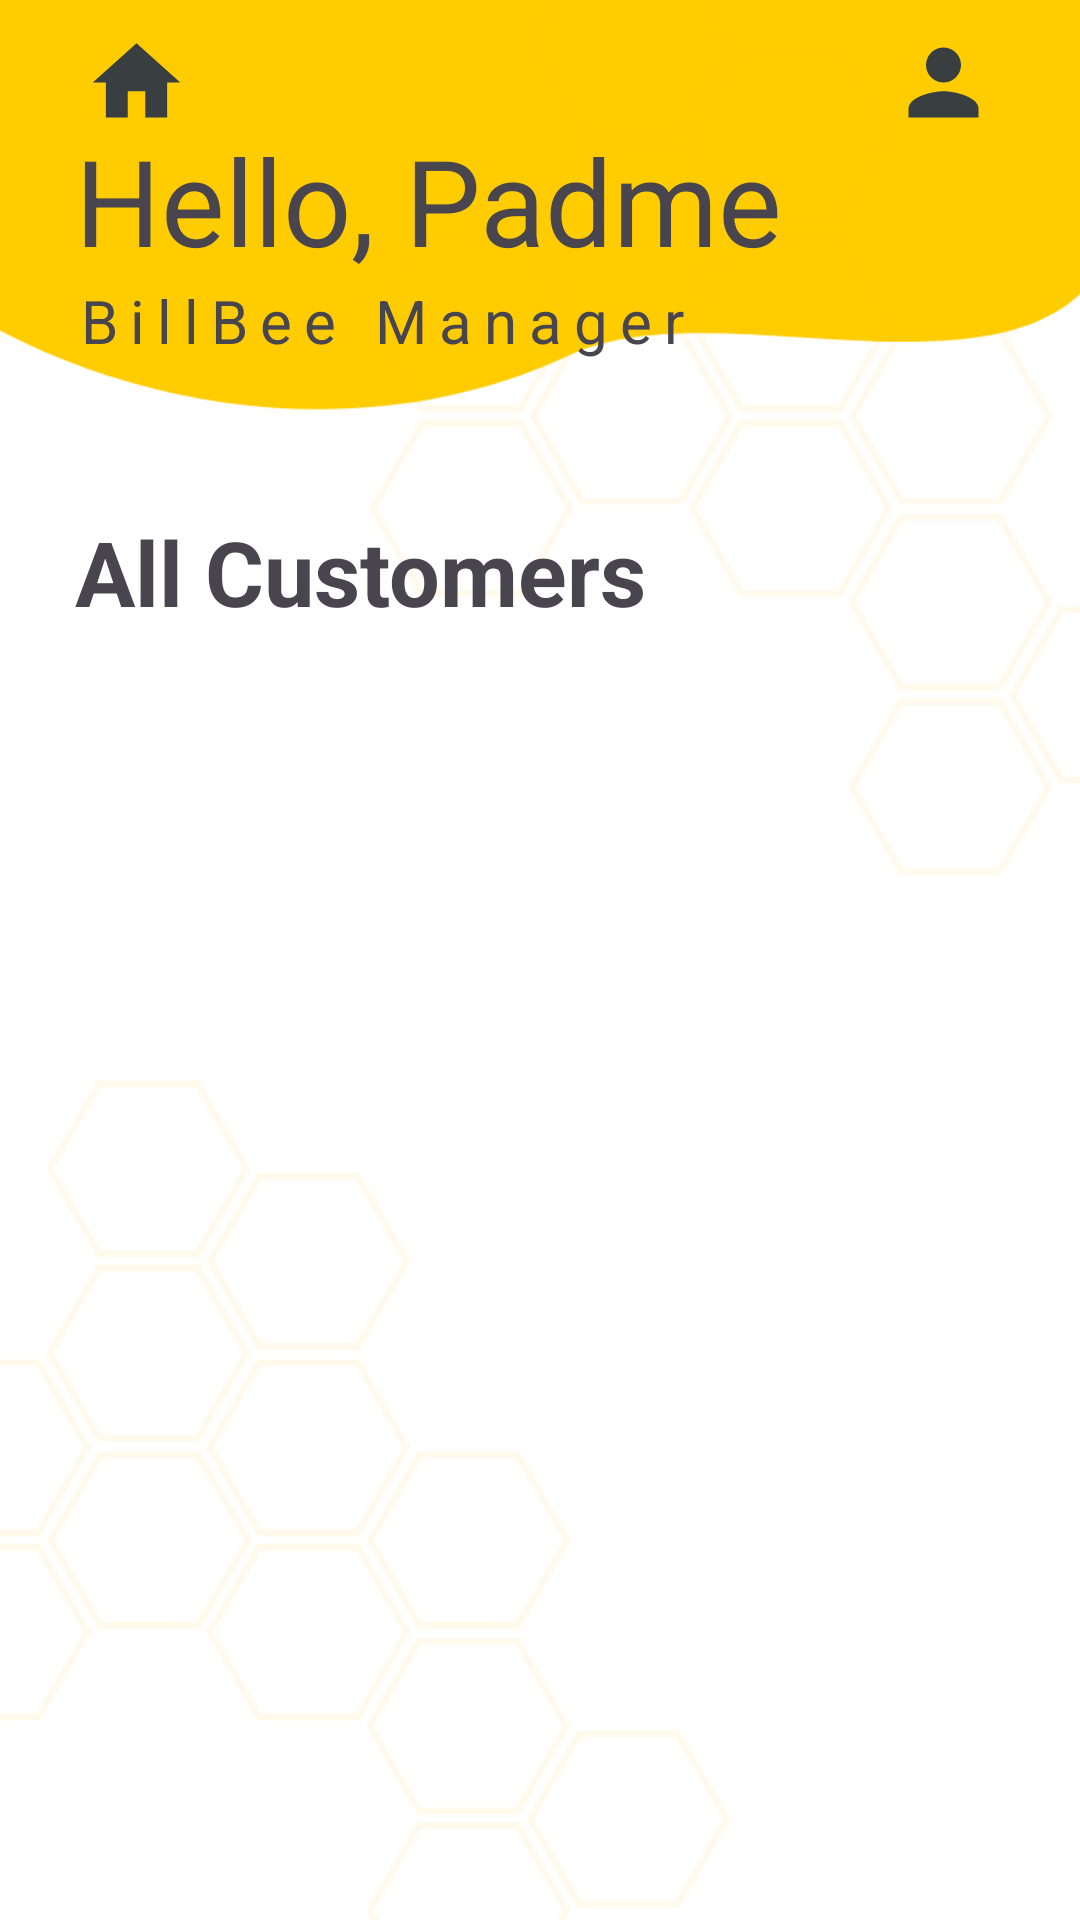

Point at icon controls on the screen. Image size 1080px×1920px, points as point (x, y).
home: point (136, 80)
person: point (943, 82)
